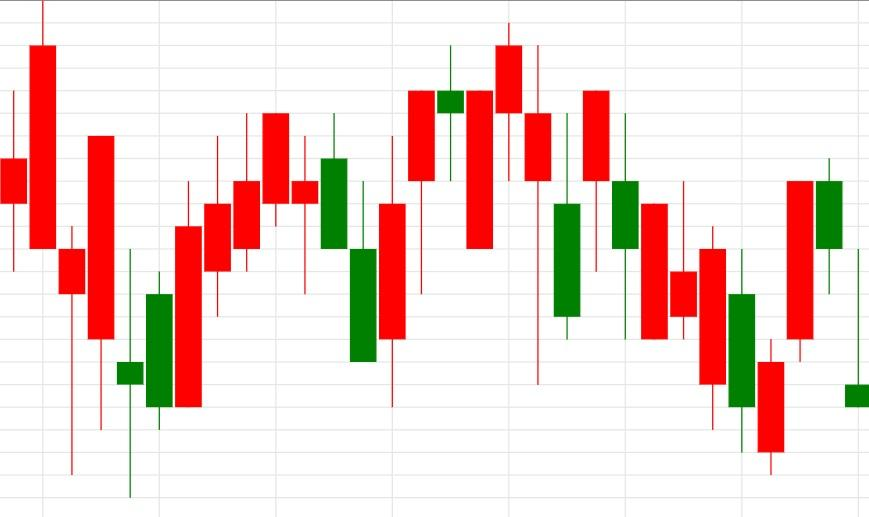three_white_soldiers_rise: (28, 0, 203, 499)
